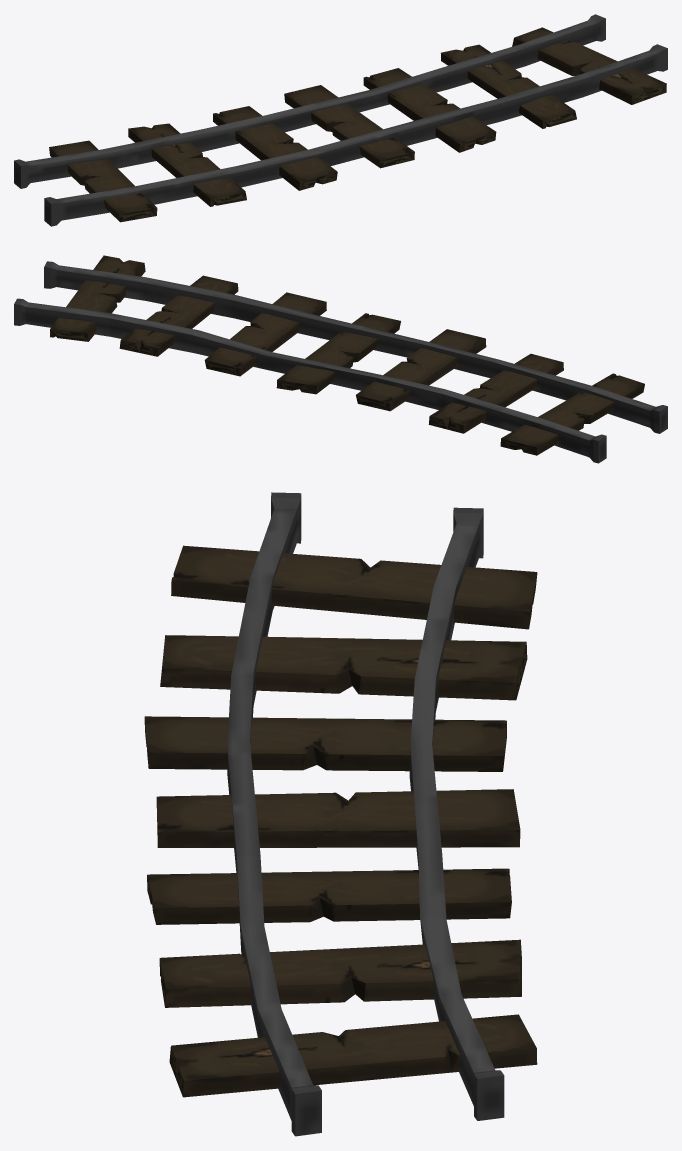
Rendered from Rails.fbx.
3 views of the same model, one above another, from view 1: azimuth 30°, elevation 25°; view 2: azimuth 150°, elevation 25°; view 3: azimuth 270°, elevation 25° (orthographic). The views are drawn at different scales.
Visible parts, largest first — view 1: Wood, Rails; view 2: Wood, Rails; view 3: Wood, Rails.
Boxes of the visible parts, <box> form: Wood: <box>49,27,666,222</box>; Rails: <box>14,14,667,226</box>; Wood: <box>50,255,644,455</box>; Rails: <box>14,261,667,463</box>; Wood: <box>144,545,537,1097</box>; Rails: <box>227,492,504,1136</box>.
Size of the model in its own units: 5.94 by 0.2077 by 1.64.
